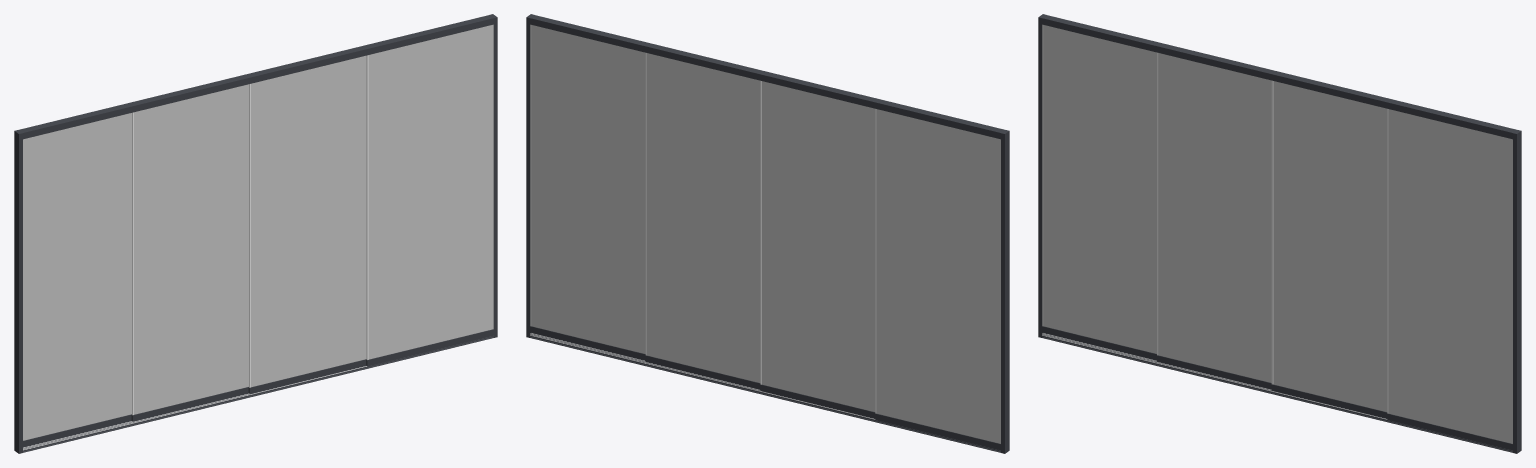
File: Nebbiolo_Sliding_Door_Front.glb
The picture shows the model from 3 angles, left to right: view 1: azimuth 30°, elevation 25°; view 2: azimuth 150°, elevation 25°; view 3: azimuth 330°, elevation 25°; orthographic projection.
Visible parts, largest first — view 1: sliding_door_front_400_250; view 2: sliding_door_front_400_250; view 3: sliding_door_front_400_250.
Part boxes in pixels (x1,y1,x2,y2): sliding_door_front_400_250: (14,14,497,453); sliding_door_front_400_250: (526,14,1009,453); sliding_door_front_400_250: (1038,14,1521,453).
Bounding box in the file's own units: 3.91 × 2.5 × 0.065.
3 materials, 1 textured.
